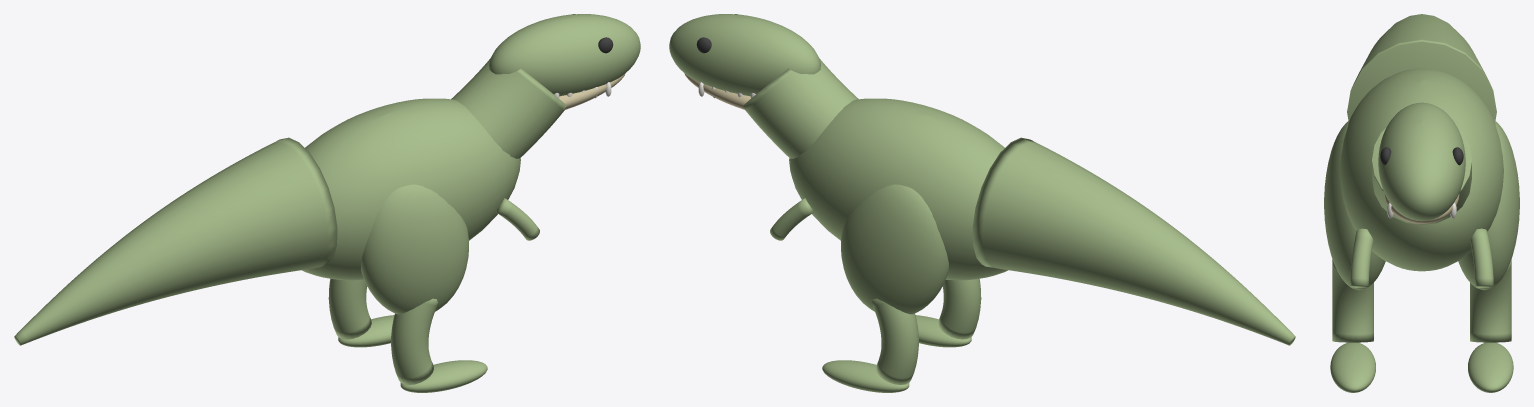
File: tiranosaurio.glb
3 renders of one model, left to right at view 1: azimuth 30°, elevation 25°; view 2: azimuth 150°, elevation 25°; view 3: azimuth 270°, elevation 25°, orthographic. The views are drawn at different scales.
Visible parts, largest first — view 1: corazon; view 2: corazon; view 3: corazon.
Boxes of the visible parts, left/top/right/bottom form: corazon: left=14, top=14, right=640, bottom=392; corazon: left=669, top=14, right=1295, bottom=392; corazon: left=1324, top=14, right=1519, bottom=392.
Size of the model in its own units: 3.81 by 1.8 by 0.9392.
